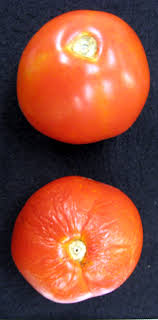tomato: (14, 8, 152, 145), (7, 173, 146, 306)
